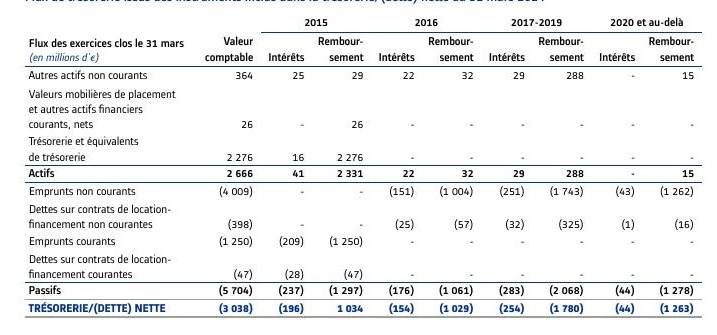table: (0, 0, 717, 335)
